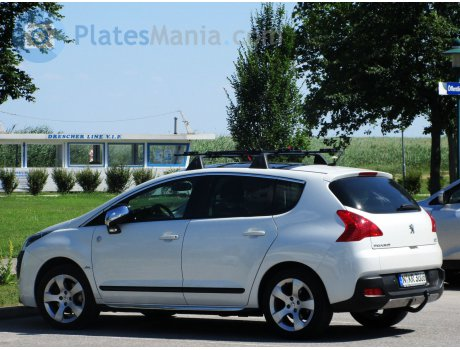License Plates: (401, 271, 430, 280)
